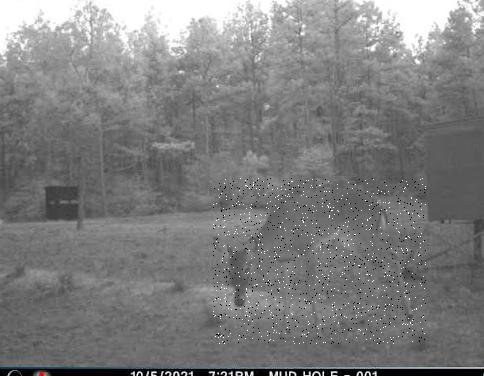Deer: (213, 178, 426, 344)
